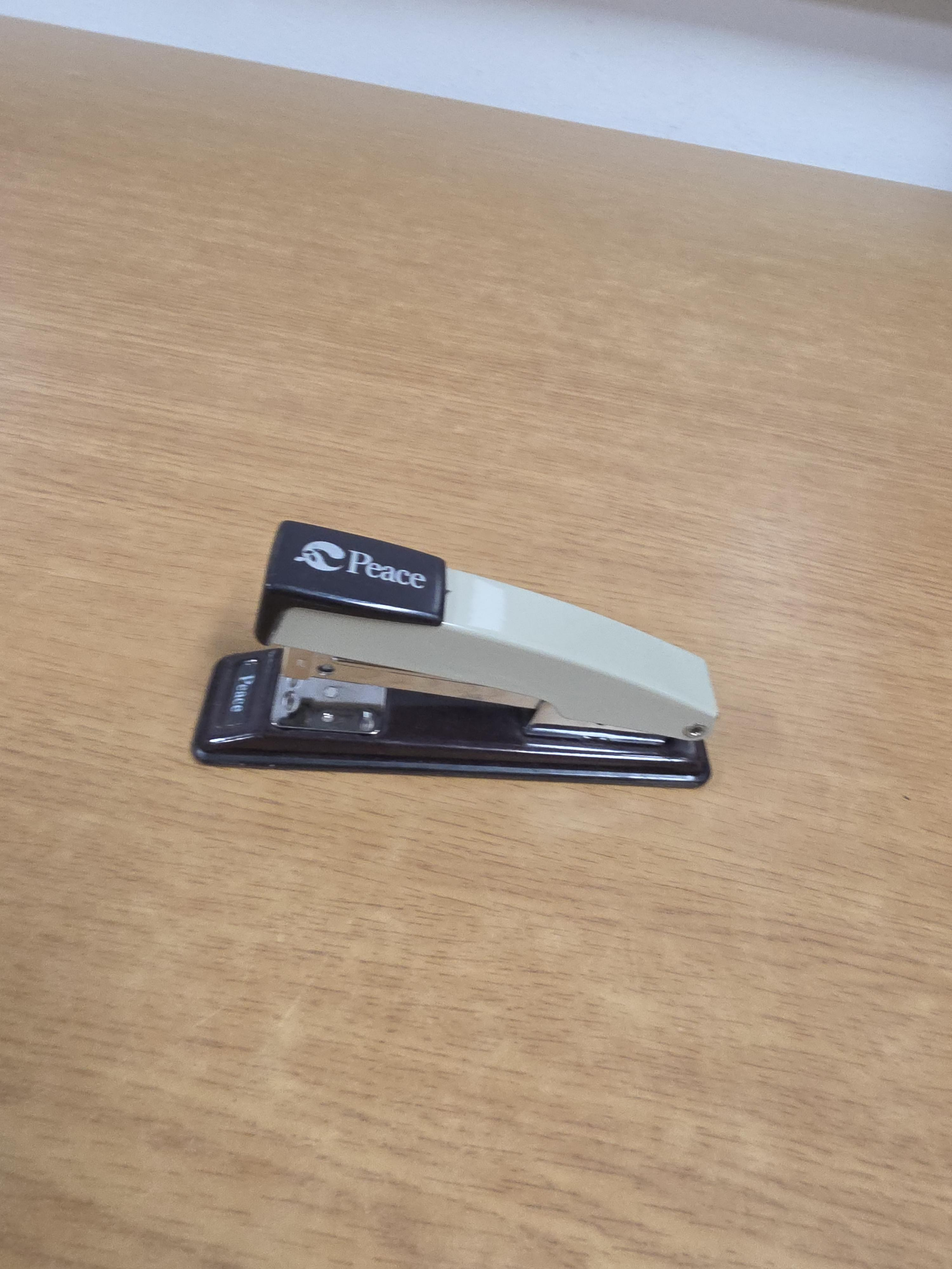stapler: (190, 519, 719, 788)
